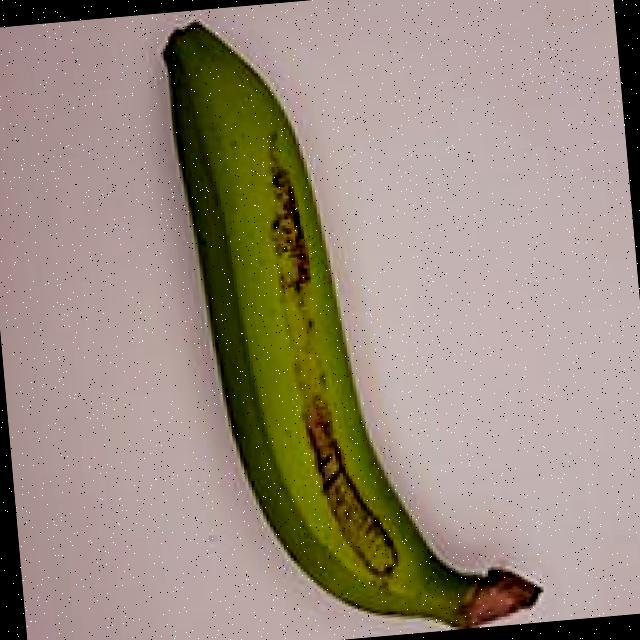Raw: (126, 0, 557, 640)
